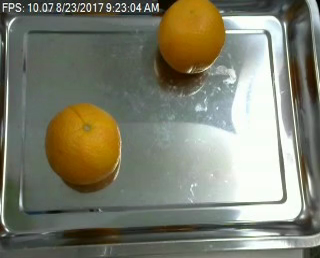Orange: (44, 103, 121, 185), (156, 1, 224, 74)
